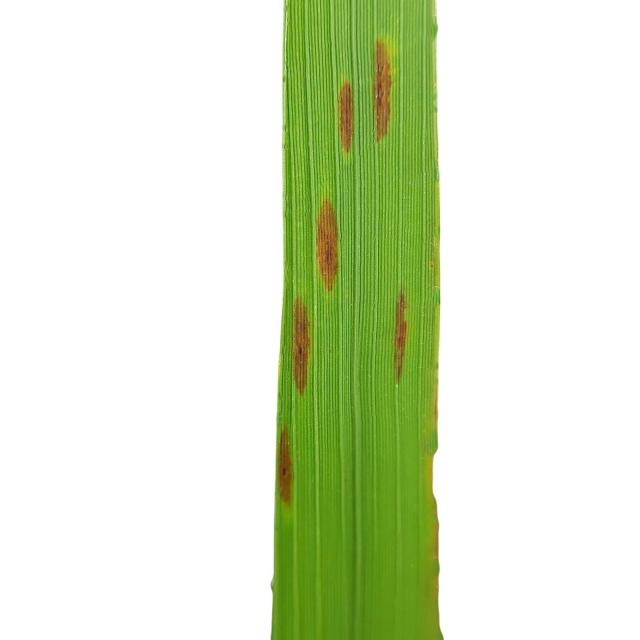Narrow brown: (256, 0, 478, 640)
